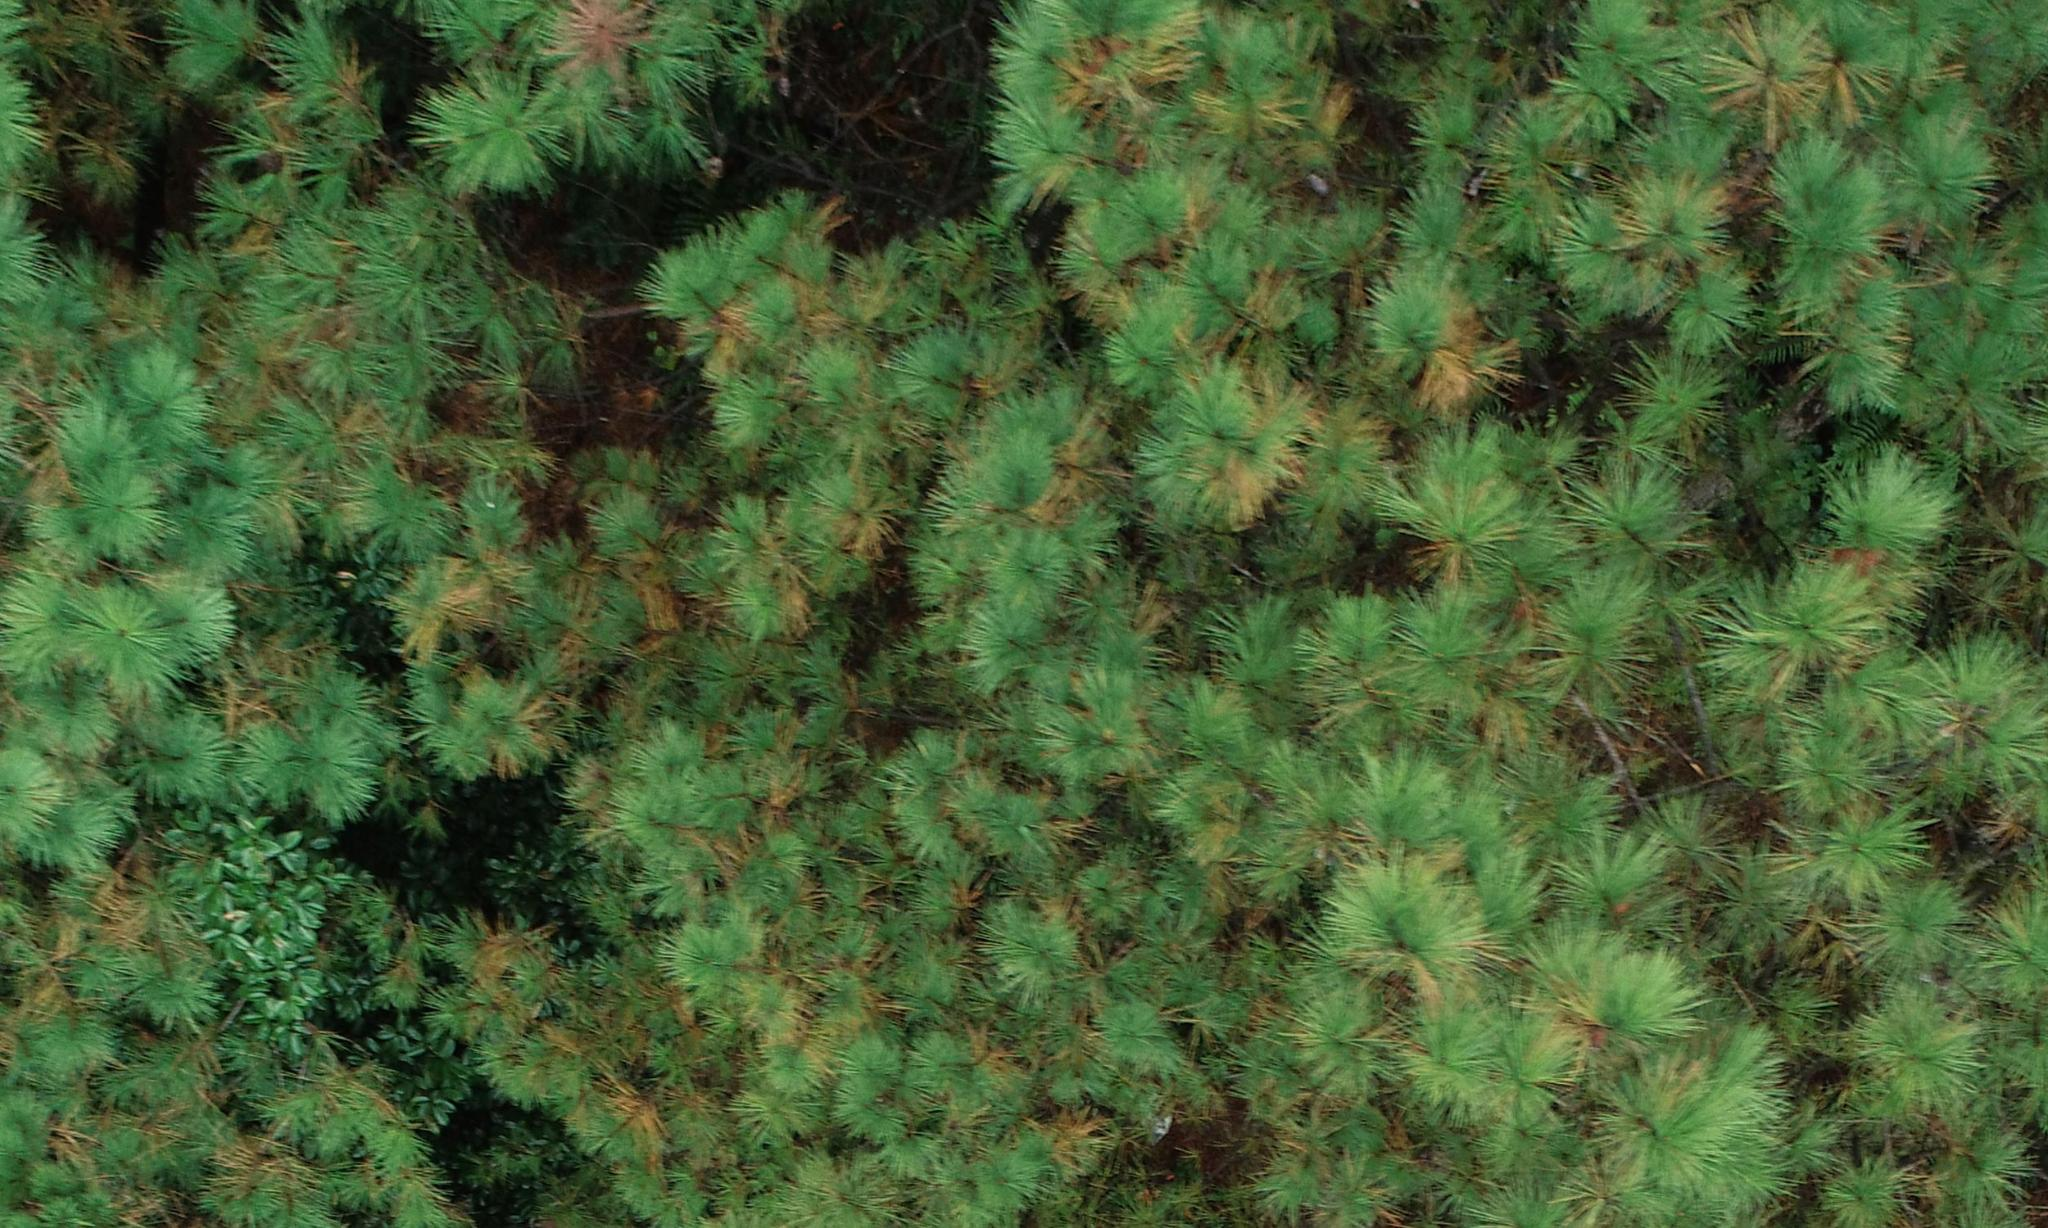light: (428, 192, 1805, 1228)
